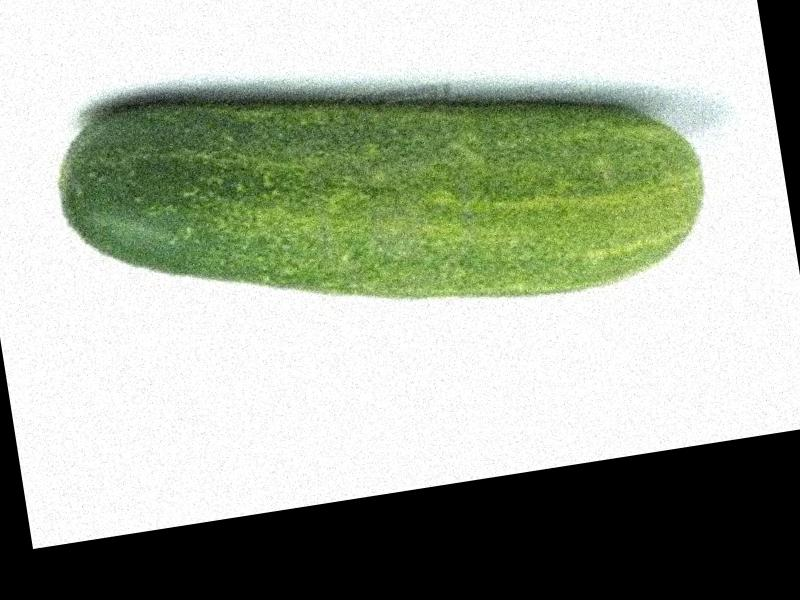Cucumber: (50, 19, 716, 365)
